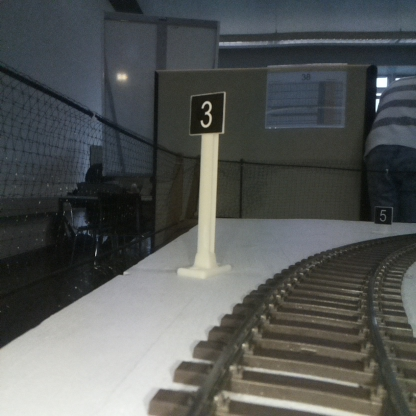black-info-3: (189, 93, 223, 276)
